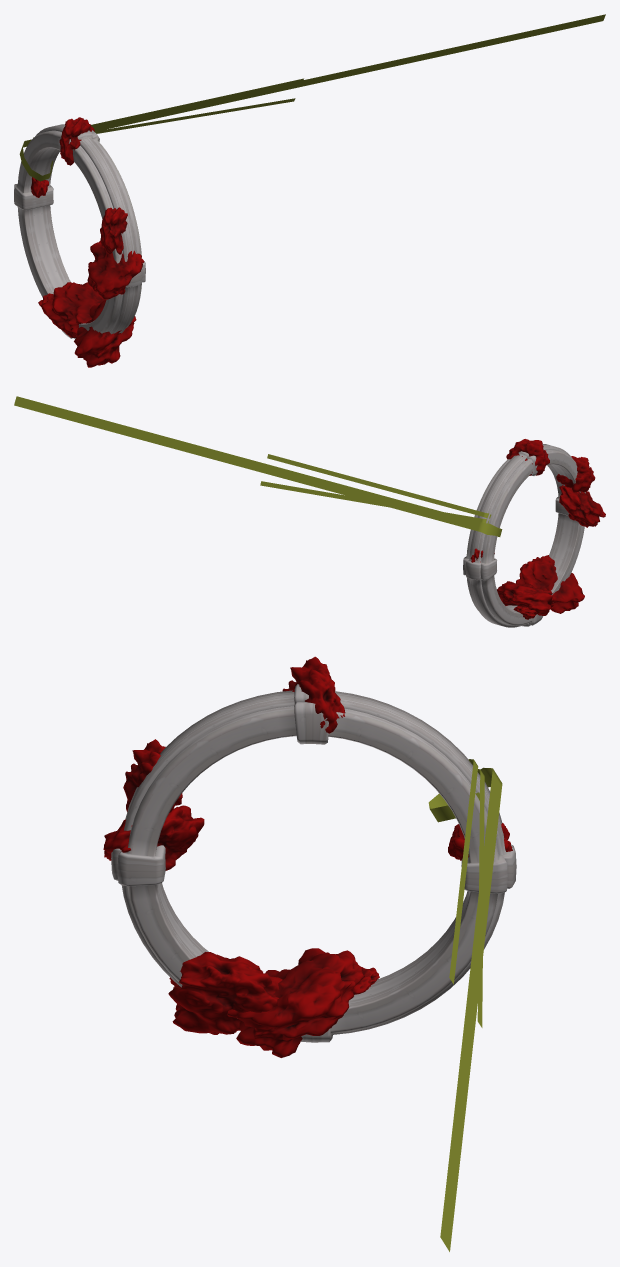
File: GSRuinedRing (1).fbx
The picture shows the model from 3 angles, top to bottom: view 1: azimuth 30°, elevation 25°; view 2: azimuth 150°, elevation 25°; view 3: azimuth 270°, elevation 25°; orthographic projection. The views are drawn at different scales.
Visible parts, largest first — view 1: GSRuinedRing (1), GoldNuggetNestedInRings (×5), GLFlagMesh, GLFlagMesh (1), GLFlagMesh (2); view 2: GSRuinedRing (1), GoldNuggetNestedInRings (×5), GLFlagMesh, GLFlagMesh (1), GLFlagMesh (2); view 3: GSRuinedRing (1), GoldNuggetNestedInRings (×5), GLFlagMesh, GLFlagMesh (1), GLFlagMesh (2).
Boxes of the visible parts, bbox=[...] form: GSRuinedRing (1): bbox=[14, 124, 145, 338]; GoldNuggetNestedInRings (×5): bbox=[41, 117, 144, 367]; GLFlagMesh: bbox=[19, 14, 605, 181]; GLFlagMesh (1): bbox=[33, 78, 303, 137]; GLFlagMesh (2): bbox=[94, 98, 295, 133]; GSRuinedRing (1): bbox=[463, 444, 585, 627]; GoldNuggetNestedInRings (×5): bbox=[497, 439, 605, 615]; GLFlagMesh: bbox=[14, 396, 502, 536]; GLFlagMesh (1): bbox=[267, 454, 491, 518]; GLFlagMesh (2): bbox=[260, 481, 488, 523]; GSRuinedRing (1): bbox=[111, 684, 516, 1042]; GoldNuggetNestedInRings (×5): bbox=[103, 656, 364, 1057]; GLFlagMesh: bbox=[428, 767, 502, 1251]; GLFlagMesh (1): bbox=[449, 759, 478, 984]; GLFlagMesh (2): bbox=[477, 769, 484, 1027].
Bounding box in the file's own units: 49.93 × 17.67 × 17.49.
3 materials, 1 textured.
